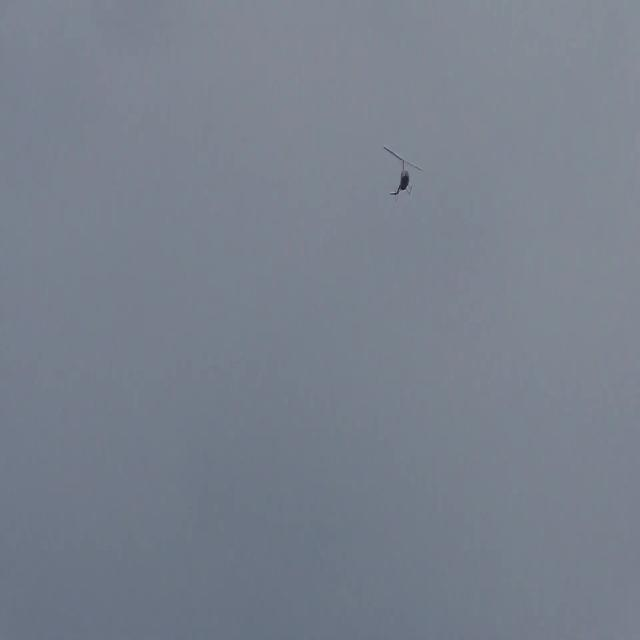CIV_HELO: (390, 158, 413, 203)
